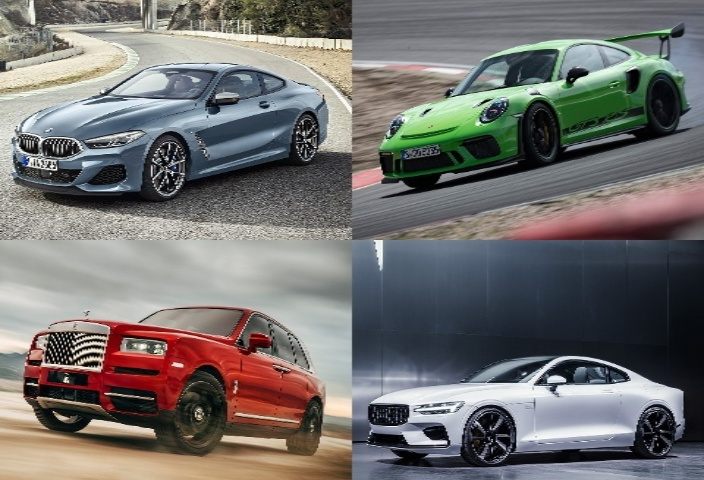camper: (11, 276, 331, 466)
car: (8, 38, 347, 225), (384, 18, 685, 181), (368, 338, 690, 473)
